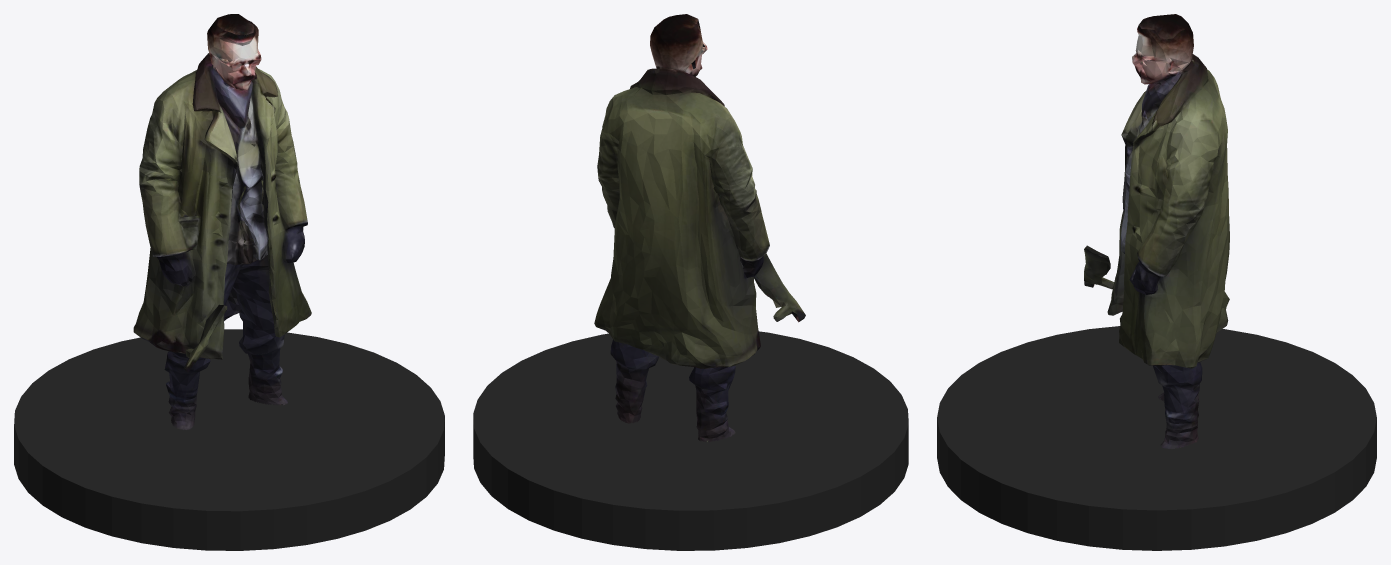
Rendered from brandon-kane.glb.
The picture shows the model from 3 angles, left to right: view 1: azimuth 30°, elevation 25°; view 2: azimuth 150°, elevation 25°; view 3: azimuth 270°, elevation 25°; orthographic projection.
Visible parts, largest first — view 1: base, figure; view 2: base, figure; view 3: base, figure.
Part boxes in pixels (bbox=[...]): base: bbox=[14, 329, 444, 550]; figure: bbox=[133, 14, 311, 429]; base: bbox=[473, 331, 908, 550]; figure: bbox=[594, 14, 805, 442]; base: bbox=[937, 326, 1376, 550]; figure: bbox=[1084, 14, 1229, 448].
Size of the model in its own units: 1.18 by 1.32 by 1.18.
2 materials, 1 textured.
